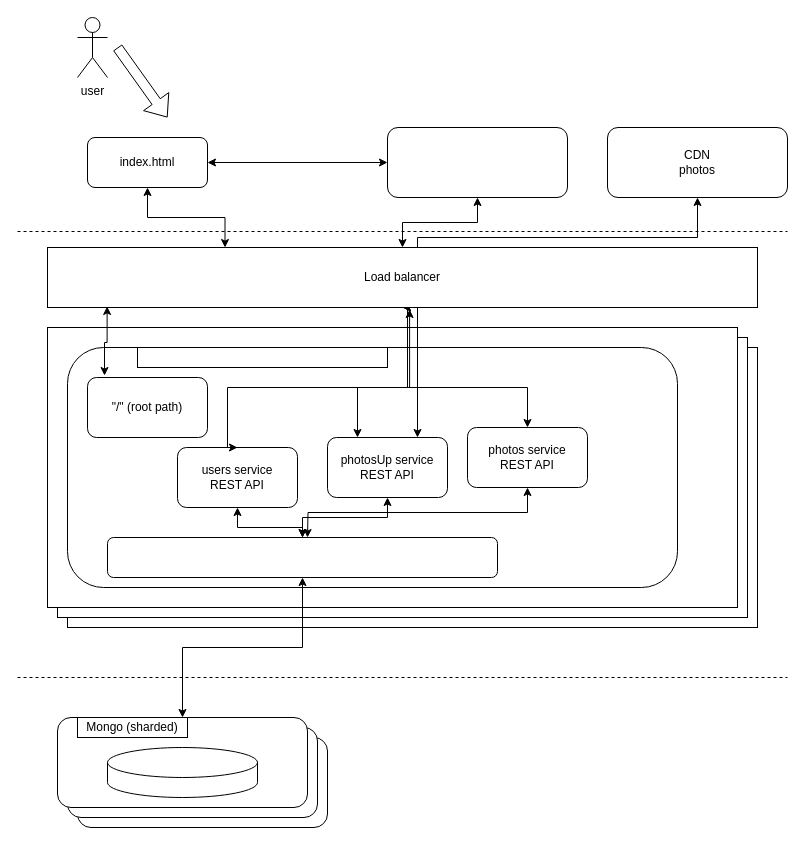
Some shapes in this 806 by 845 pixel diagram are drawn without their labels. The centre of each missing label's shape, as x and y in pixels:
CDN JS, CSS, Images (static assets): point (477, 162)
Express/Node.js OR Apache/PHP: point (262, 357)
mongos query router: point (302, 557)
users, photosMeta: point (182, 772)
